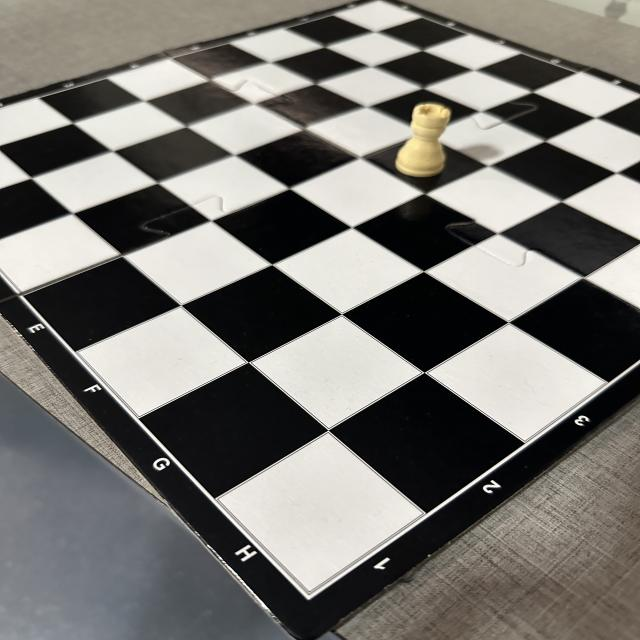White-Rook: (395, 102, 451, 178)
